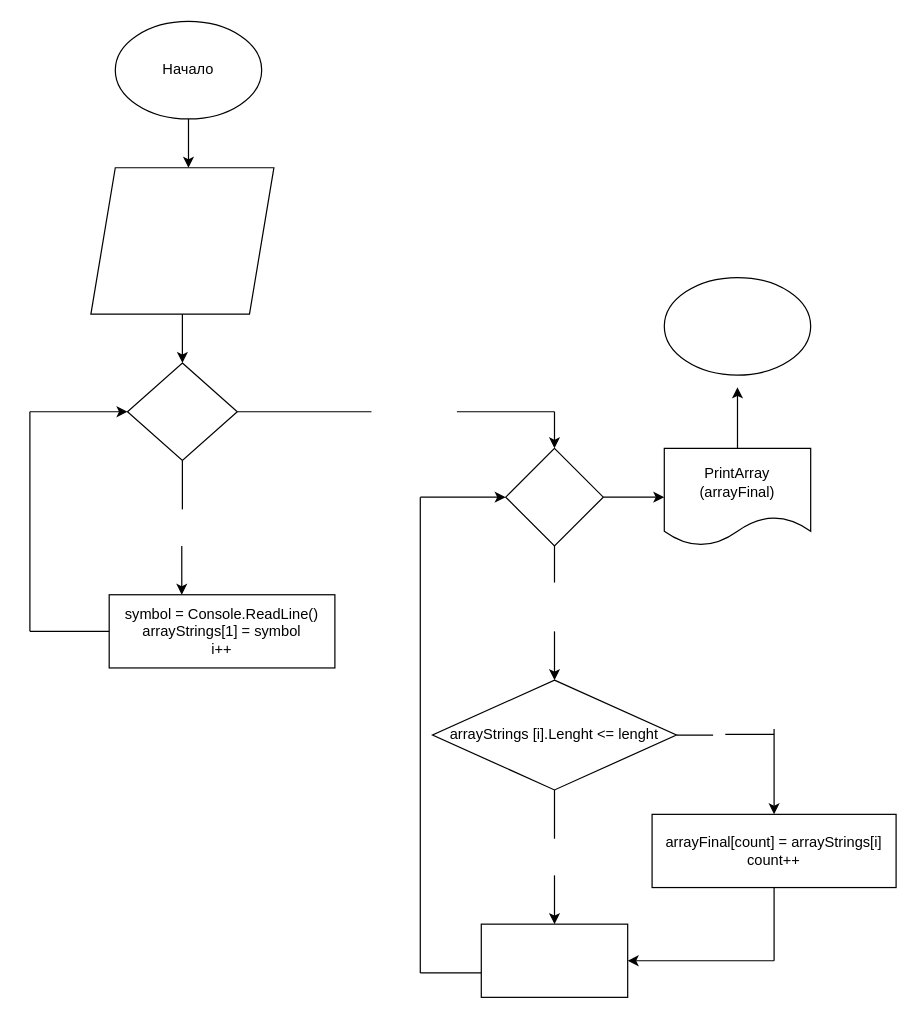
The diagram is 917 pixels wide and 1019 high, and some of its shapes have lost their labels. Here are the shapes that lost their labels. From the top down, the centre of each, then its label:
At point (182, 240): "Size arrayStrings [size] arrayFinal [size] lenght = 3 count = 0 symbol".
At point (737, 325): "Конец".
At point (554, 960): "i++".
